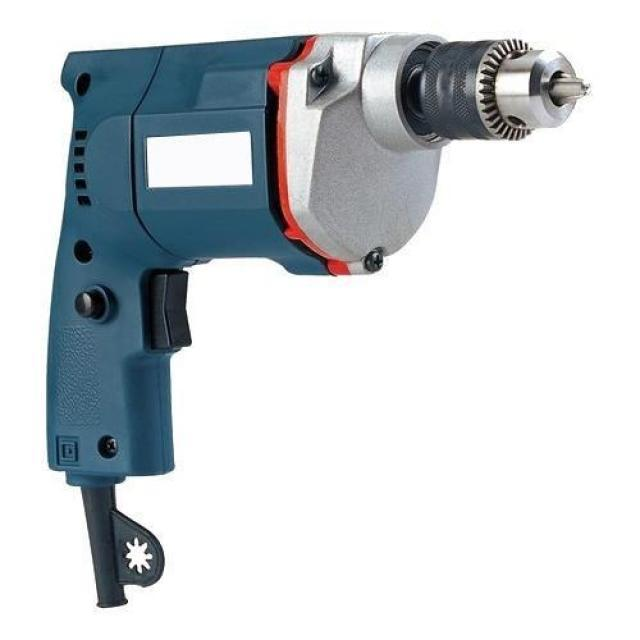drill: (46, 32, 592, 610)
